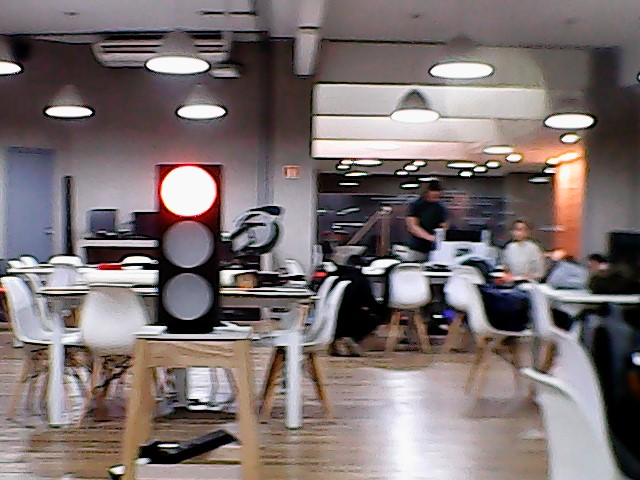vermelho: (150, 156, 226, 332)
